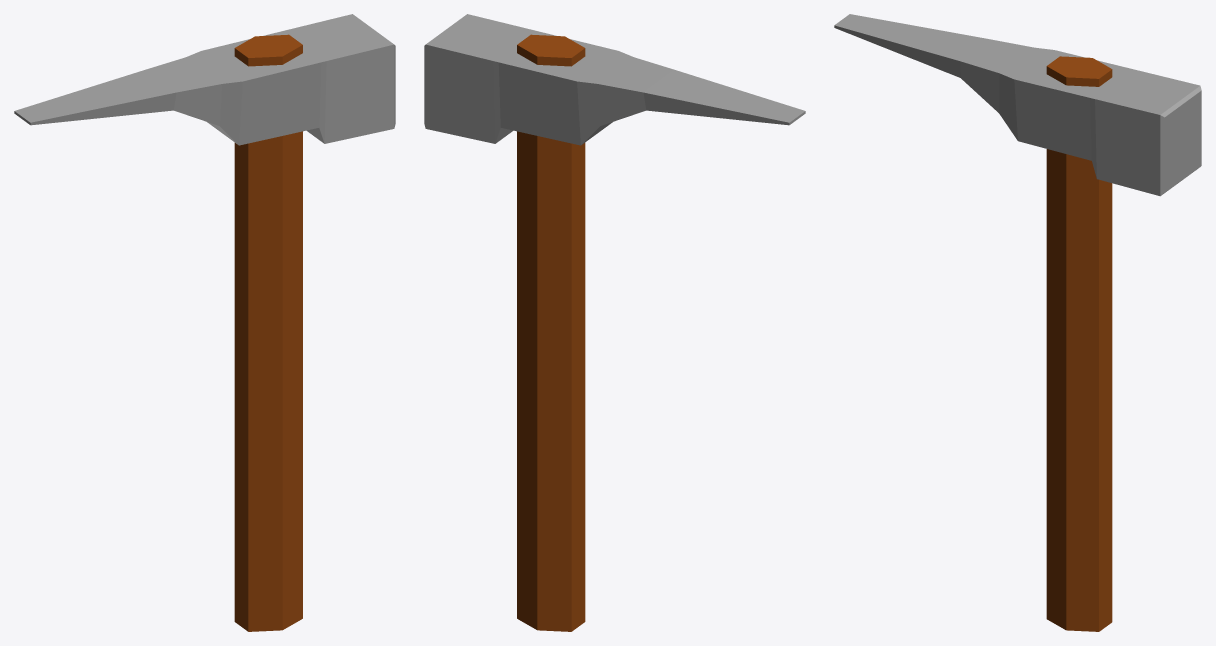
File: Hammer.fbx
3 views of the same model, side by side, from view 1: azimuth 30°, elevation 25°; view 2: azimuth 150°, elevation 25°; view 3: azimuth 330°, elevation 25° (orthographic). The views are drawn at different scales.
Parts seen in each view (by area): view 1: Hammer; view 2: Hammer; view 3: Hammer.
Boxes of the visible parts, x1=… form: Hammer: x1=14, y1=14, x2=395, y2=631; Hammer: x1=424, y1=14, x2=805, y2=631; Hammer: x1=834, y1=14, x2=1201, y2=631.
Size of the model in its own units: 59.4 by 92.02 by 12.13.
